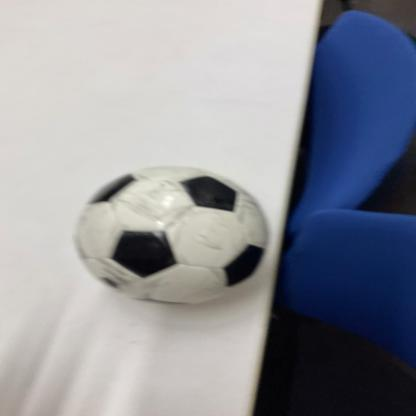ball: (74, 167, 270, 305)
